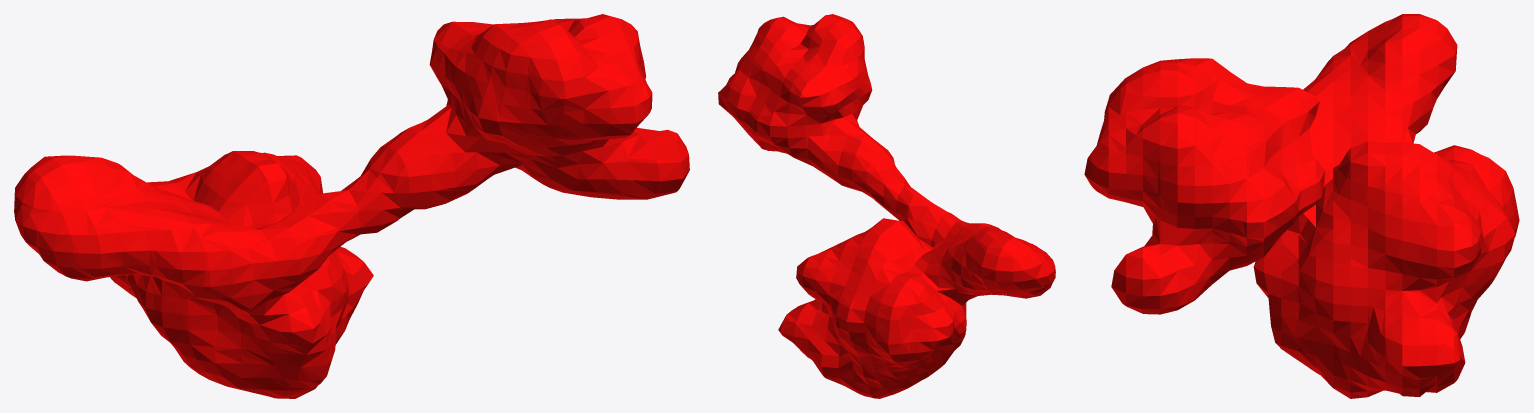
File: glnL_coarse.dae
3 views of the same model, side by side, from view 1: azimuth 30°, elevation 25°; view 2: azimuth 150°, elevation 25°; view 3: azimuth 270°, elevation 25° (orthographic). The views are drawn at different scales.
Parts seen in each view (by area): view 1: glnL; view 2: glnL; view 3: glnL.
Boxes of the visible parts, bbox=[...] form: glnL: bbox=[14, 14, 689, 398]; glnL: bbox=[718, 14, 1055, 398]; glnL: bbox=[1084, 14, 1519, 398].
Size of the model in its own units: 110 by 76.83 by 73.38.
